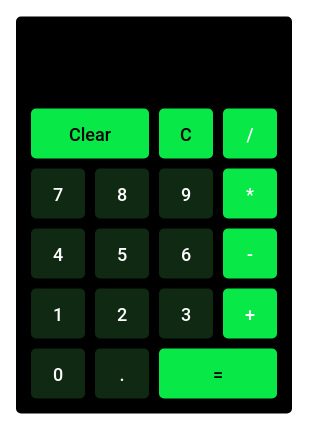
Equal button
This screenshot has width=320, height=431.
Click the button "7": (58, 194) [31,168,85,218]
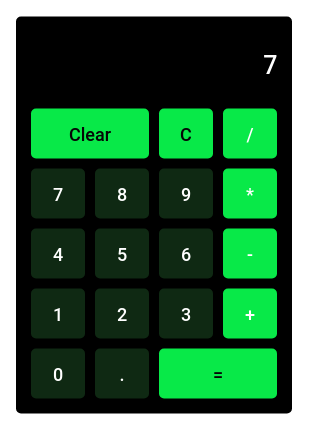
Click the button "+": (250, 314) [223,288,277,338]
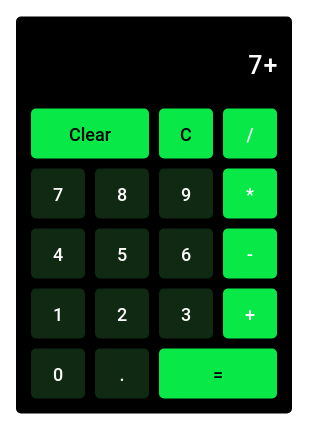
Click the button "5": (122, 254) [95,228,149,278]
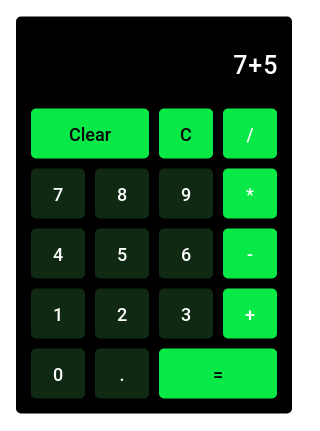
Expected: the field holds "7+5", [28,26,280,104]
Click the button "=": (218, 374) [159,348,277,398]
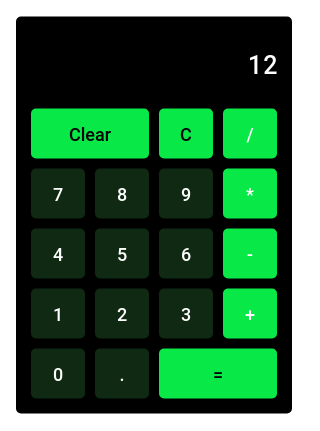
Expected: the field holds "12", [28,26,280,104]
